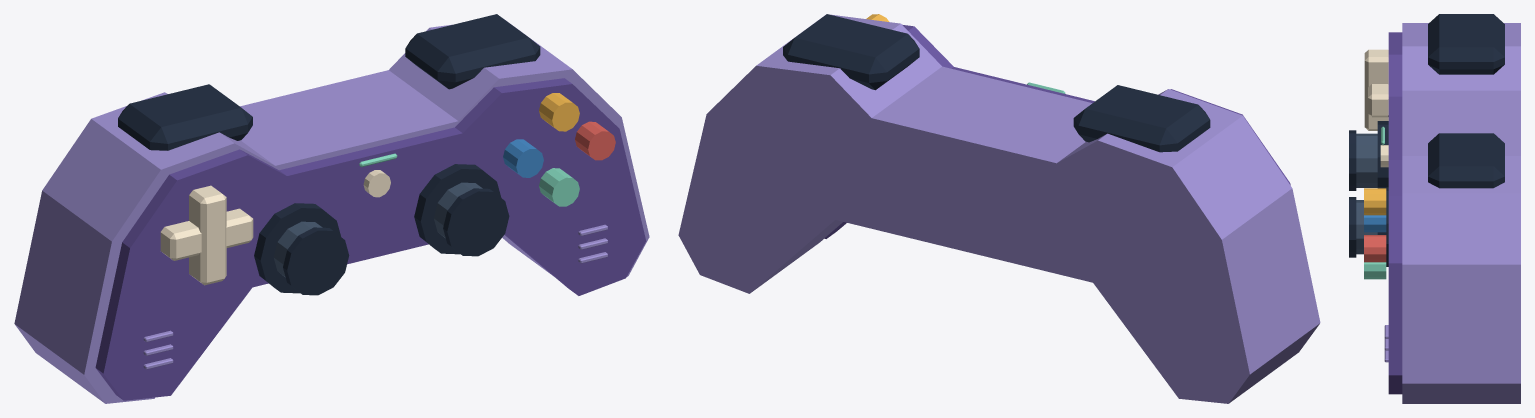
The model's file is Game_Controller.glb.
3 renders of one model, left to right at view 1: azimuth 30°, elevation 25°; view 2: azimuth 150°, elevation 25°; view 3: azimuth 270°, elevation 25°, orthographic. The views are drawn at different scales.
Visible parts, largest first — view 1: Game_Controller; view 2: Game_Controller; view 3: Game_Controller.
Boxes of the visible parts, x1,y1,x2,y2 form: Game_Controller: (14,14,649,403); Game_Controller: (678,14,1320,403); Game_Controller: (1349,14,1520,403).
Size of the model in its own units: 3.46 by 1.46 by 1.07.
Materials: 1 (1 with a texture image).
